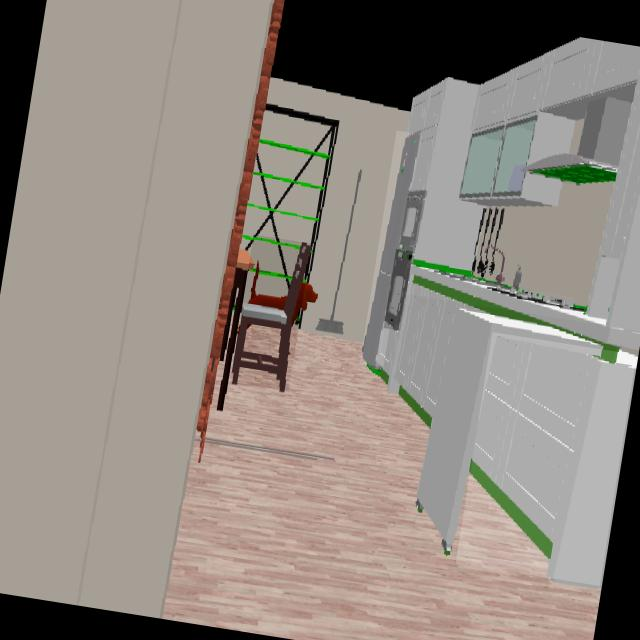cabinet: (407, 37, 640, 331), (473, 338, 637, 584)
chair: (232, 243, 311, 391)
fridge: (363, 135, 419, 366)
microwave: (401, 190, 426, 247)
oven: (385, 251, 412, 329)
stove: (510, 288, 573, 309), (576, 305, 587, 312)
